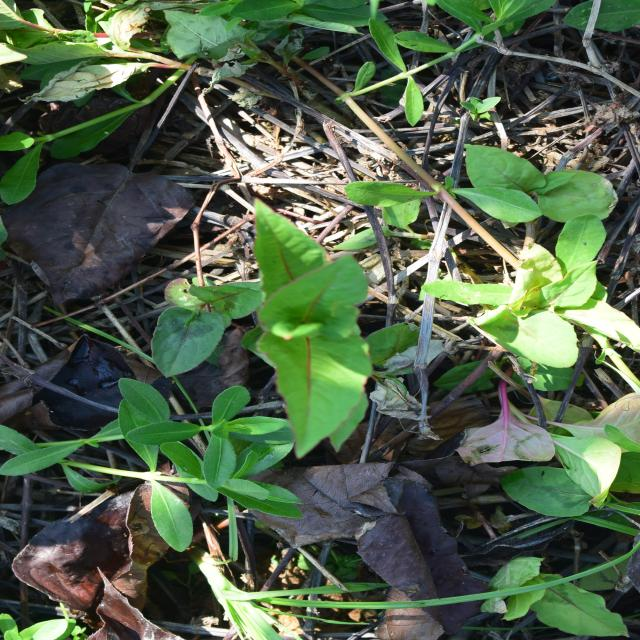Chinese_knotweed: (190, 242, 413, 380), (266, 131, 372, 244)
